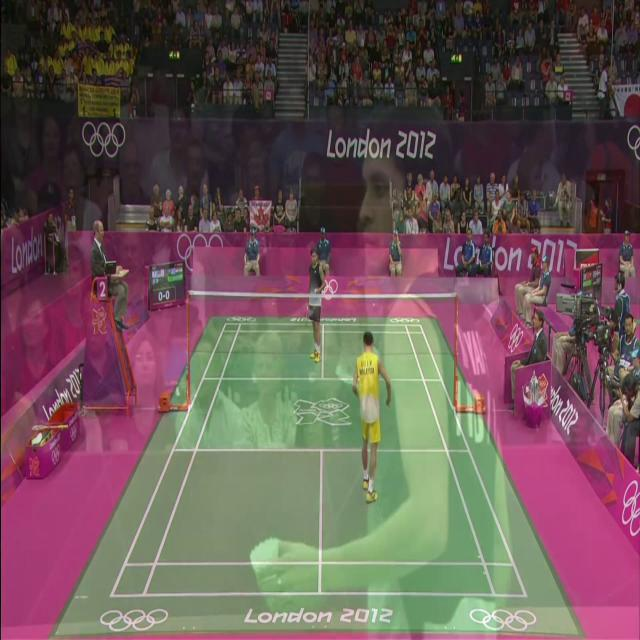Net: (174, 278, 458, 379)
Player1: (319, 318, 398, 532)
Player2: (300, 221, 340, 352)
Shuttlecock: (311, 261, 329, 291)
